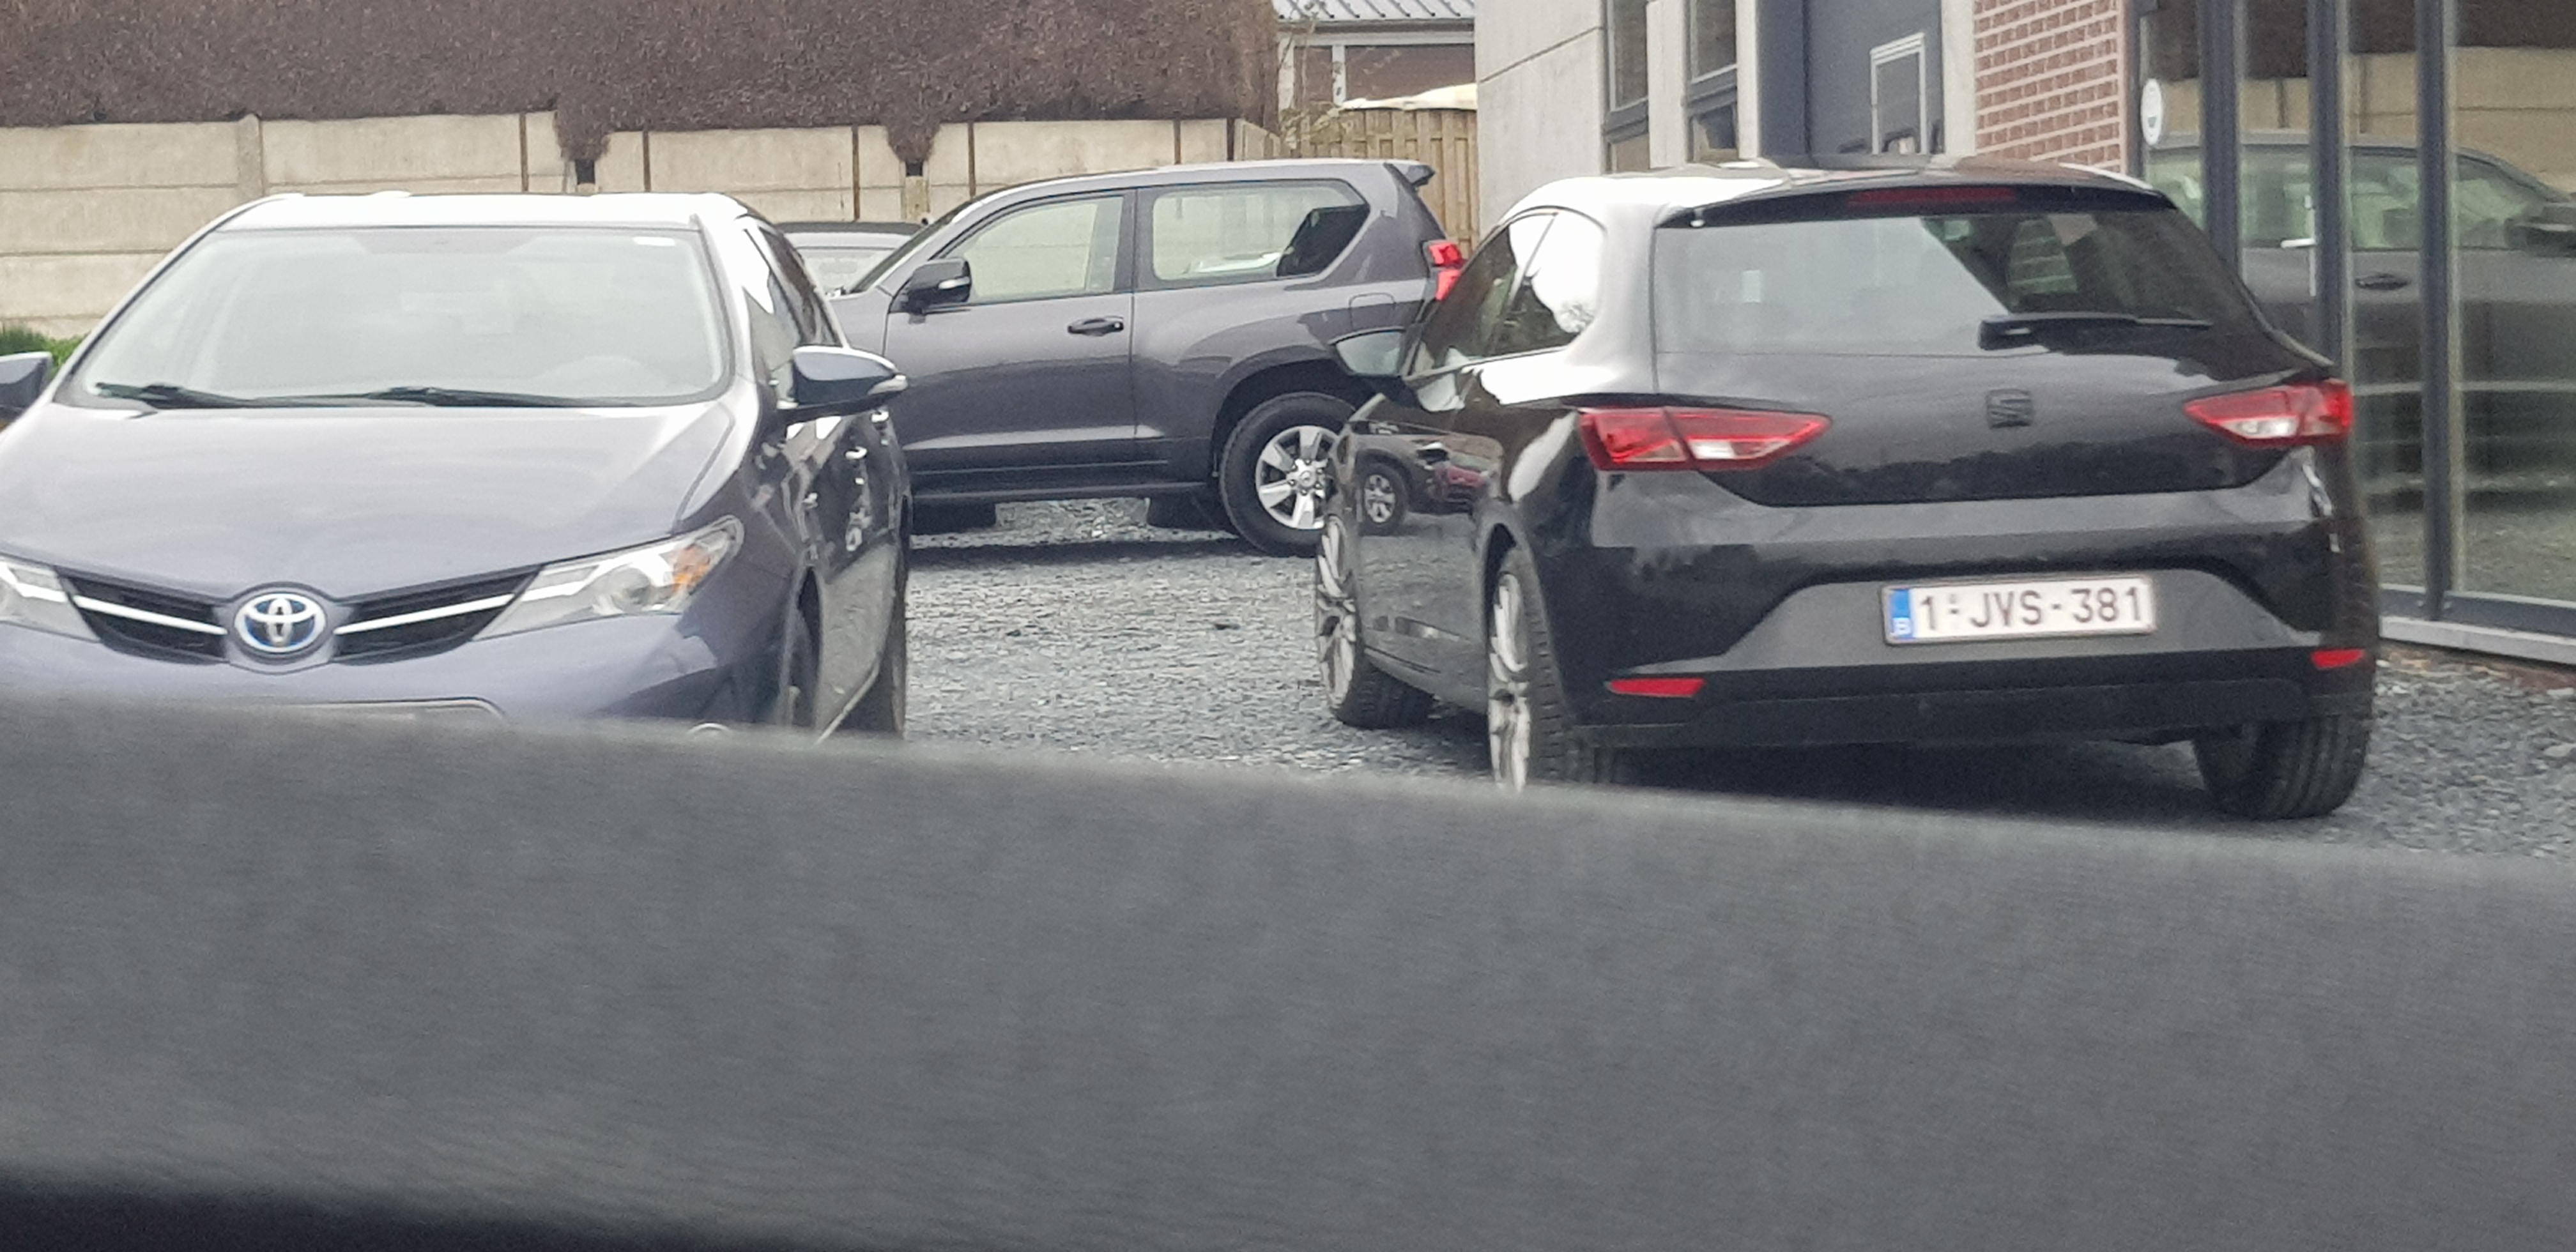licenceplate: (1880, 572, 2159, 644)
